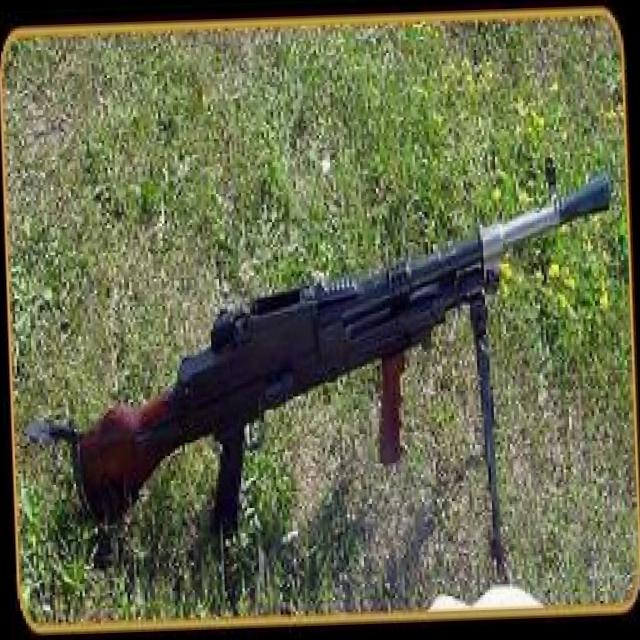long weapon: (29, 144, 625, 557)
